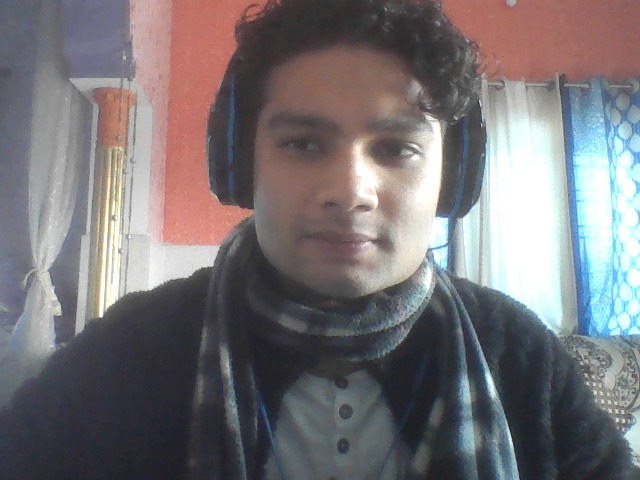real: (220, 0, 470, 355)
